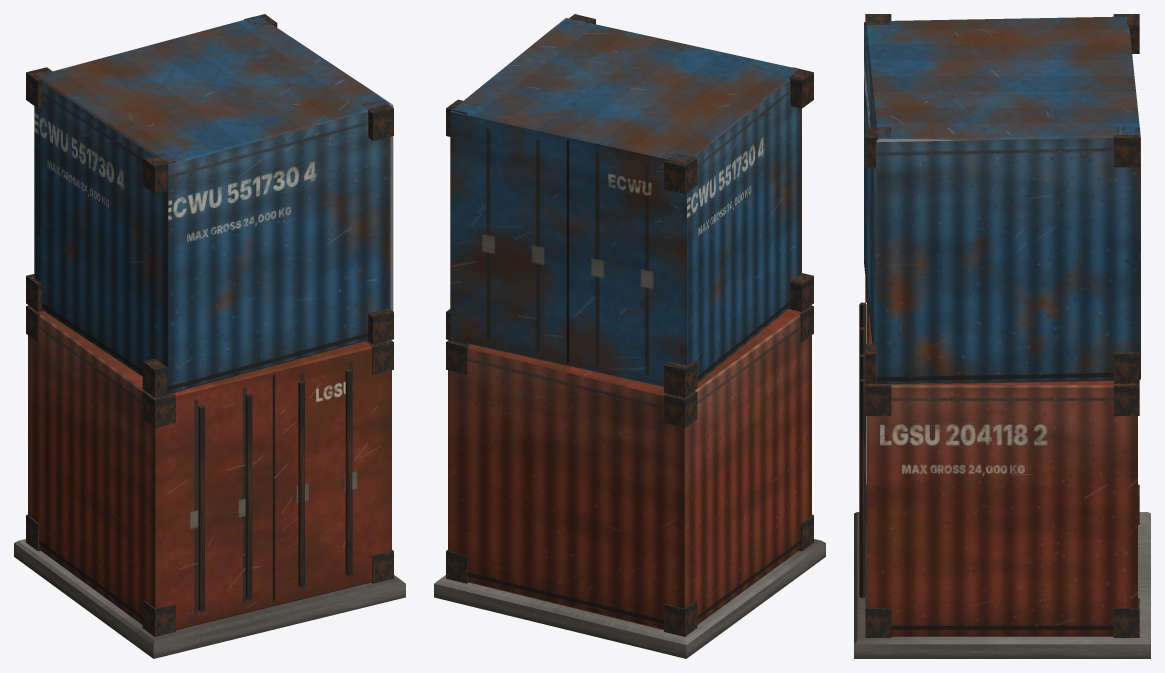
The model's file is prop_pillar_container_a.glb.
3 views of the same model, side by side, from view 1: azimuth 30°, elevation 25°; view 2: azimuth 150°, elevation 25°; view 3: azimuth 270°, elevation 25° (orthographic). The views are drawn at different scales.
Parts seen in each view (by area): view 1: prop_pillar_container_a_body; view 2: prop_pillar_container_a_body; view 3: prop_pillar_container_a_body.
Part boxes in pixels (bbox=[...]): prop_pillar_container_a_body: bbox=[14, 14, 405, 658]; prop_pillar_container_a_body: bbox=[434, 14, 825, 658]; prop_pillar_container_a_body: bbox=[854, 14, 1150, 658].
Bounding box in the file's own units: 0.96 × 1.77 × 0.92.
Materials: 1 (1 with a texture image).
